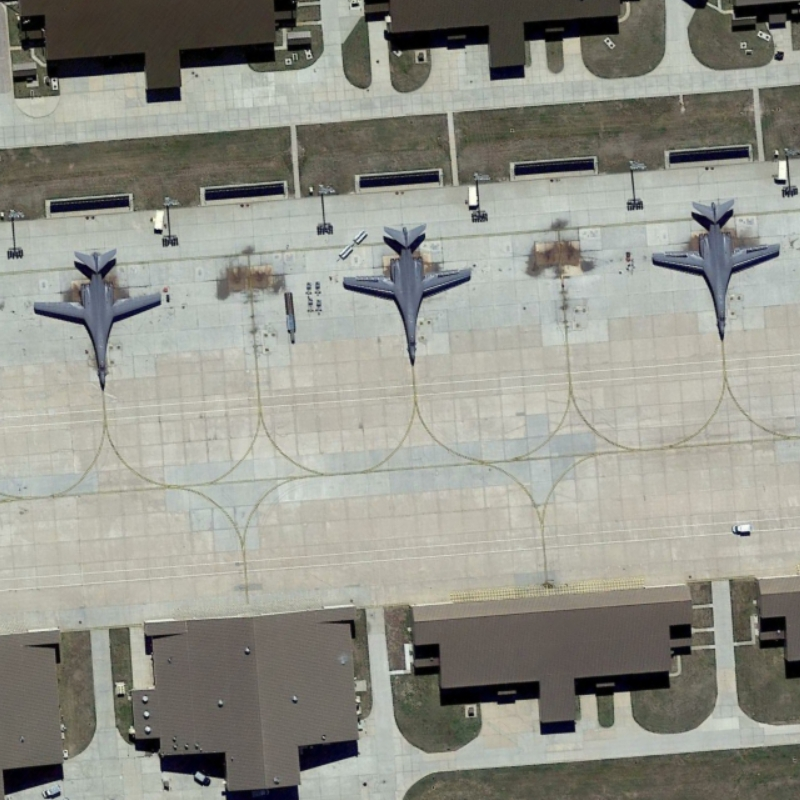A10: (26, 244, 181, 394), (337, 216, 478, 369), (649, 190, 783, 345)
